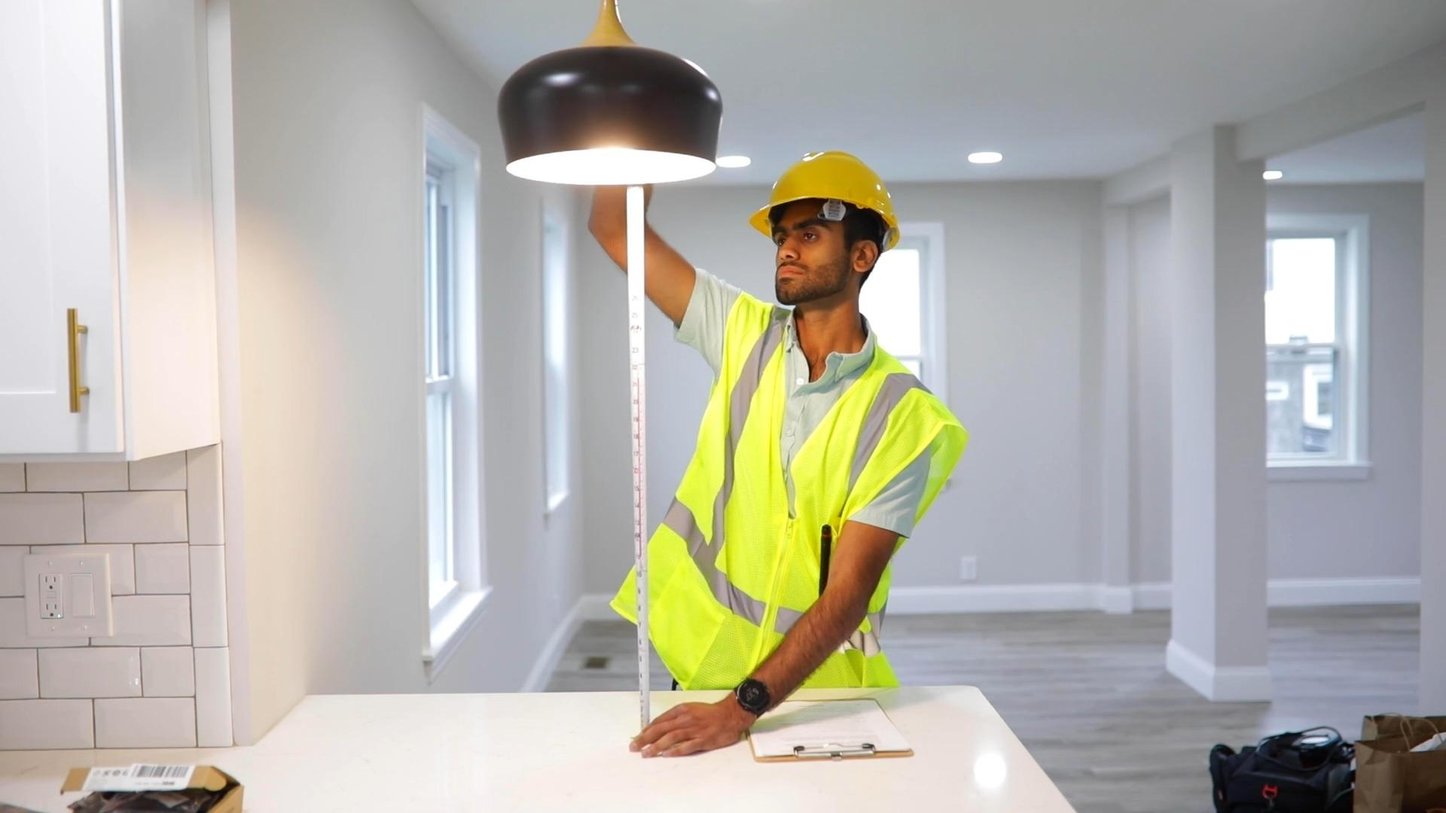Helmet: (749, 149, 900, 252)
Person: (626, 153, 989, 781)
Safety Vest: (703, 339, 908, 686)
bare-arms: (636, 689, 752, 776)
